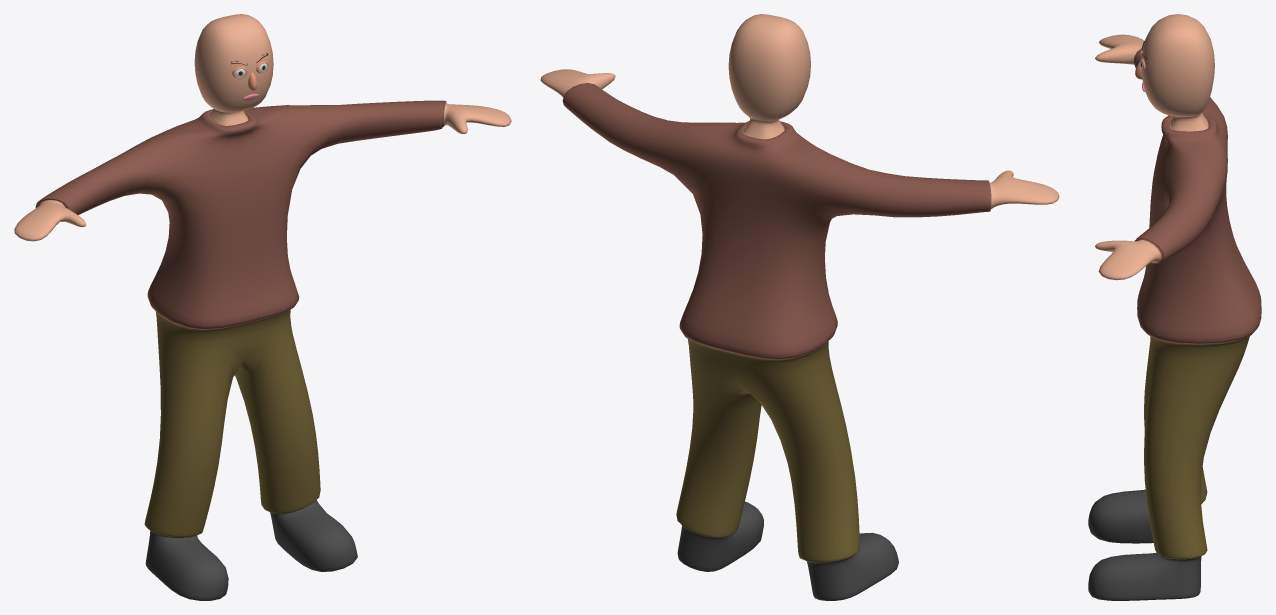
The model's file is Character.fbx.
3 views of the same model, side by side, from view 1: azimuth 30°, elevation 25°; view 2: azimuth 150°, elevation 25°; view 3: azimuth 270°, elevation 25° (orthographic). The views are drawn at different scales.
Visible parts, largest first — view 1: Character; view 2: Character; view 3: Character.
Boxes of the visible parts, left/top/right/bottom form: Character: left=14, top=14, right=511, bottom=600; Character: left=540, top=14, right=1059, bottom=600; Character: left=1088, top=14, right=1261, bottom=600.
Bounding box in the file's own units: 366 × 383 × 111.
